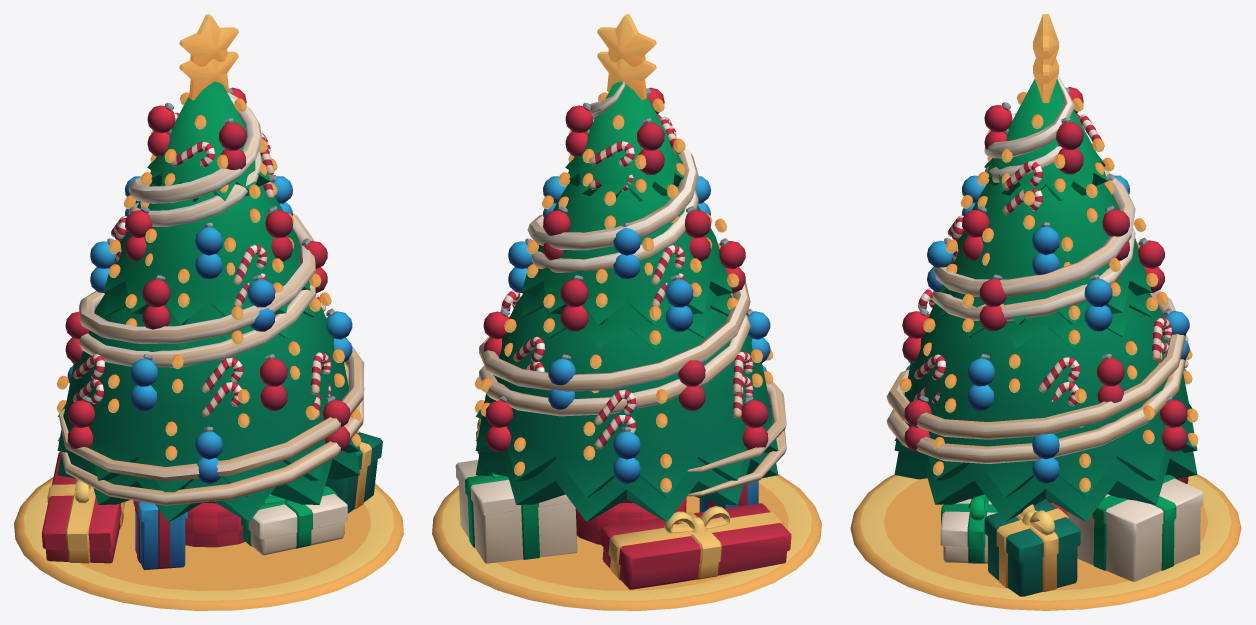
File: christmassTree.glb
The picture shows the model from 3 angles, left to right: view 1: azimuth 30°, elevation 25°; view 2: azimuth 150°, elevation 25°; view 3: azimuth 270°, elevation 25°; orthographic projection.
Visible parts, largest first — view 1: christmas_tree_decorated, christmas_tree, christmas_tree_base; view 2: christmas_tree_decorated, christmas_tree, christmas_tree_base; view 3: christmas_tree_decorated, christmas_tree.
Boxes of the visible parts, x1=… form: christmas_tree_decorated: x1=14, y1=14, x2=403, y2=610; christmas_tree: x1=56, y1=51, x2=364, y2=521; christmas_tree_base: x1=185, y1=501, x2=244, y2=547; christmas_tree_decorated: x1=432, y1=14, x2=821, y2=610; christmas_tree: x1=474, y1=51, x2=786, y2=521; christmas_tree_base: x1=575, y1=497, x2=686, y2=544; christmas_tree_decorated: x1=850, y1=14, x2=1241, y2=610; christmas_tree: x1=886, y1=58, x2=1198, y2=521.
Size of the model in its own units: 2.92 by 4.23 by 2.92.
2 materials, 2 textured.
